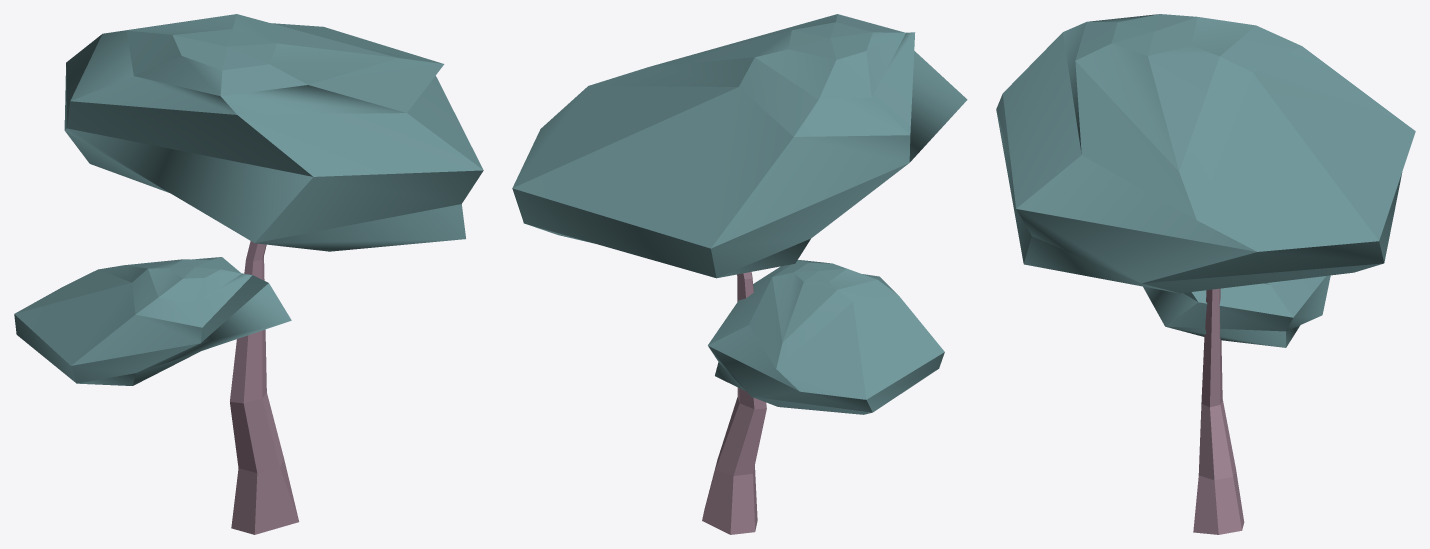
Rendered from SM_Tree_002.fbx.
The picture shows the model from 3 angles, left to right: view 1: azimuth 30°, elevation 25°; view 2: azimuth 150°, elevation 25°; view 3: azimuth 270°, elevation 25°; orthographic projection. The views are drawn at different scales.
Parts seen in each view (by area): view 1: SM_Tree_002; view 2: SM_Tree_002; view 3: SM_Tree_002.
Boxes of the visible parts, bbox=[...] form: SM_Tree_002: bbox=[14, 14, 483, 534]; SM_Tree_002: bbox=[512, 14, 967, 534]; SM_Tree_002: bbox=[996, 14, 1415, 534].
Size of the model in its own units: 666 by 832 by 677.
